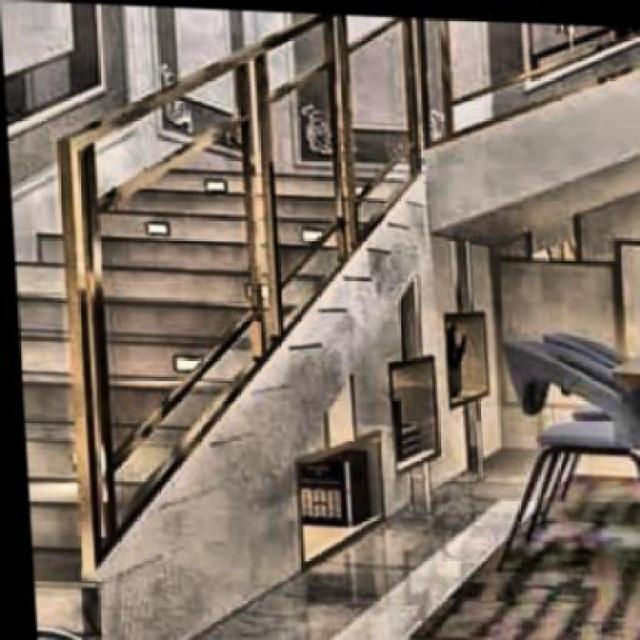stair: (6, 136, 460, 638)
